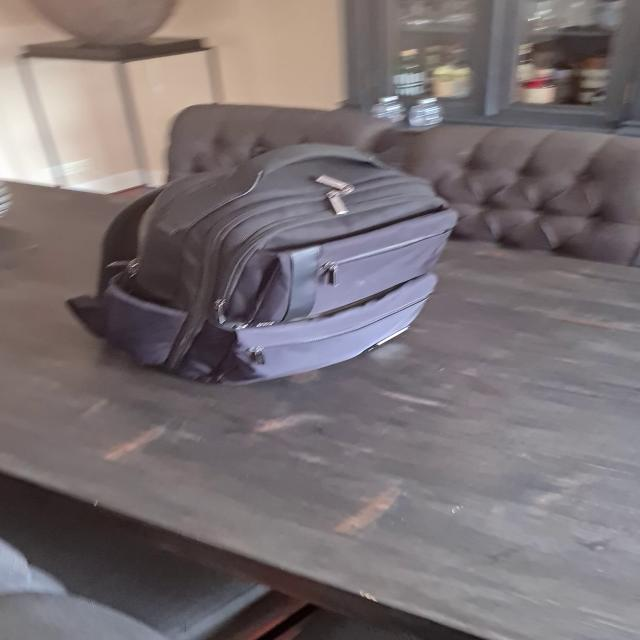backpack: (64, 136, 468, 388)
